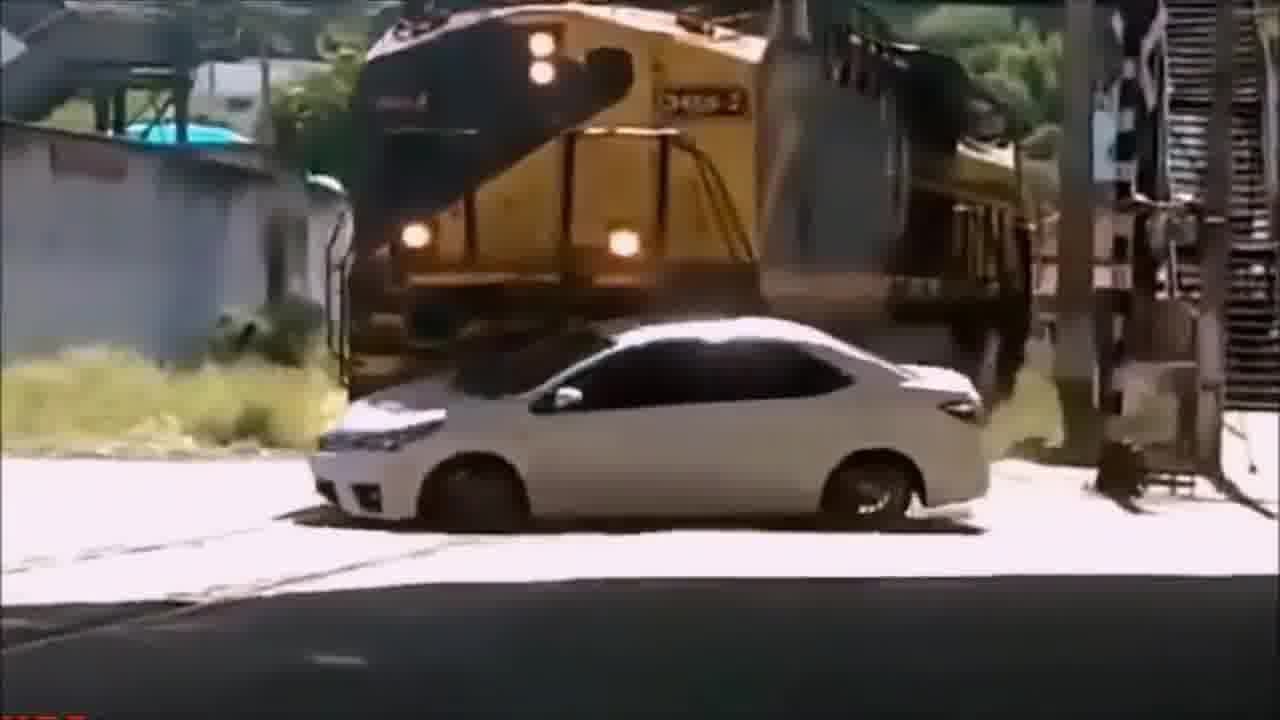crossing railway track: (290, 309, 1040, 536)
